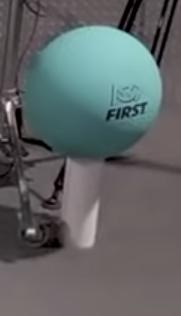algae: (23, 26, 162, 159)
coral: (58, 157, 104, 250)
